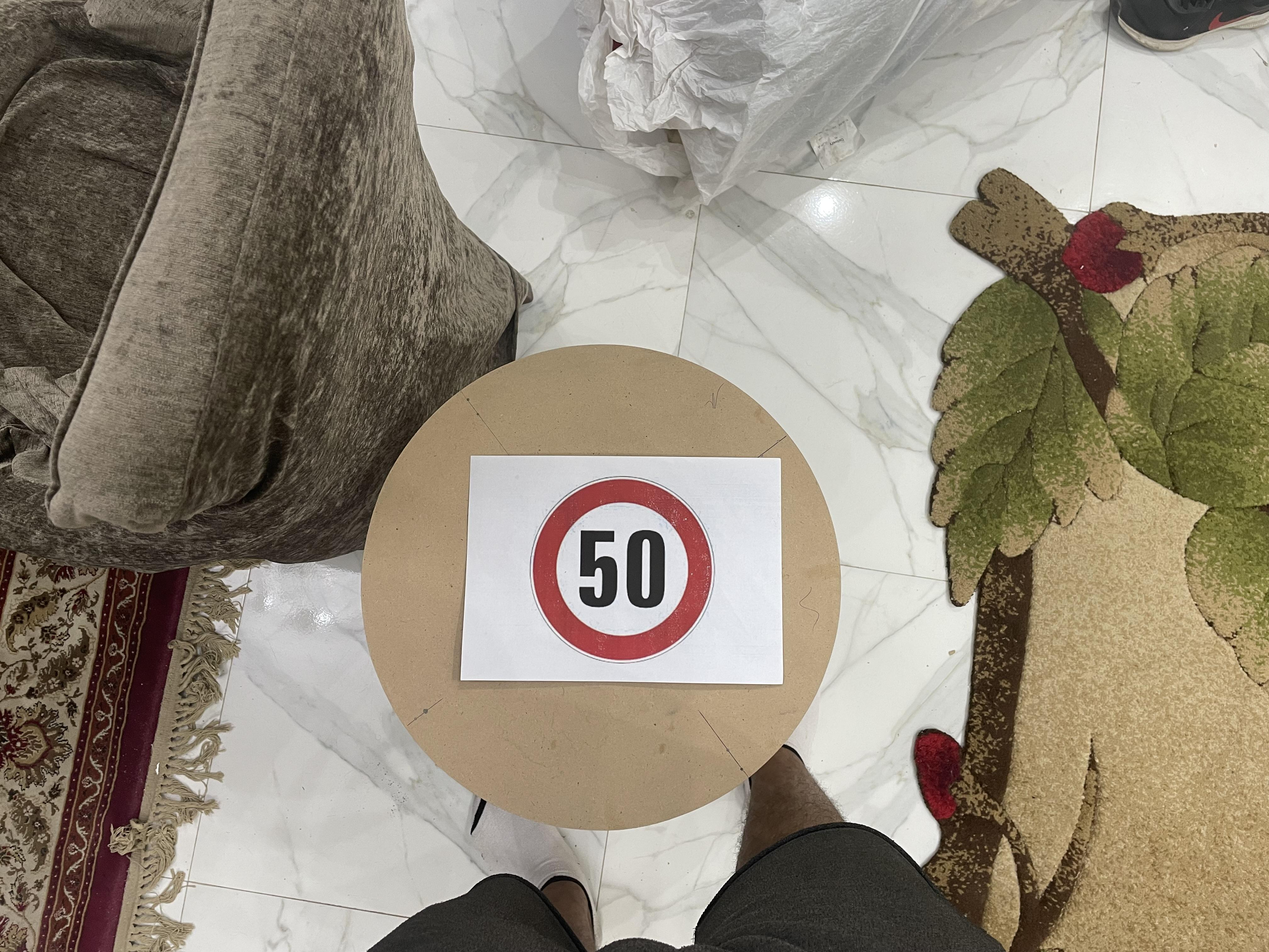50-Speed: (551, 280, 744, 480)
